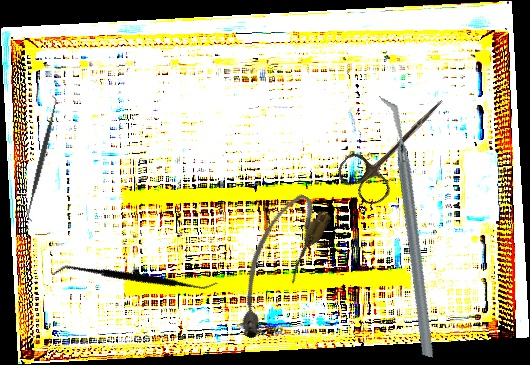Cannula: (216, 187, 335, 345)
Chopper: (314, 96, 499, 358)
Iris Scissors: (332, 79, 461, 211)
Spatula Surgical: (51, 210, 219, 348), (19, 94, 65, 224)
